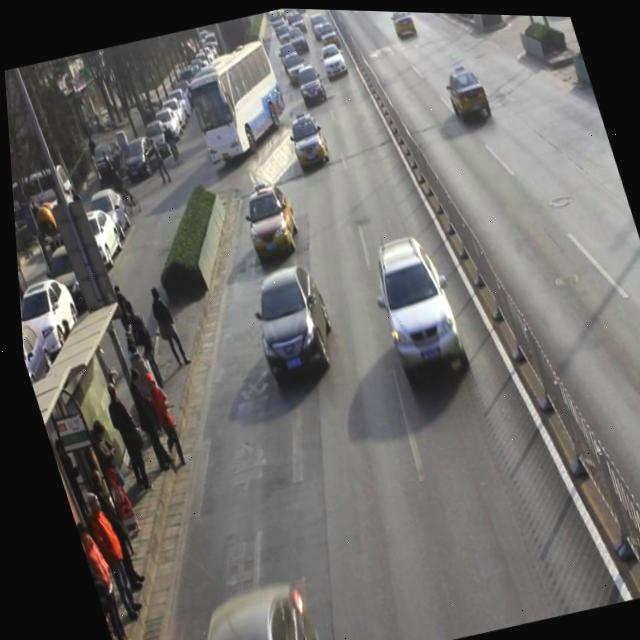car: (360, 230, 466, 377), (236, 258, 340, 384), (160, 575, 317, 640), (234, 181, 304, 263), (440, 63, 495, 126), (283, 111, 333, 171), (291, 59, 328, 105), (317, 39, 349, 78), (280, 47, 311, 86), (388, 9, 418, 39)
van: (178, 36, 299, 168)
